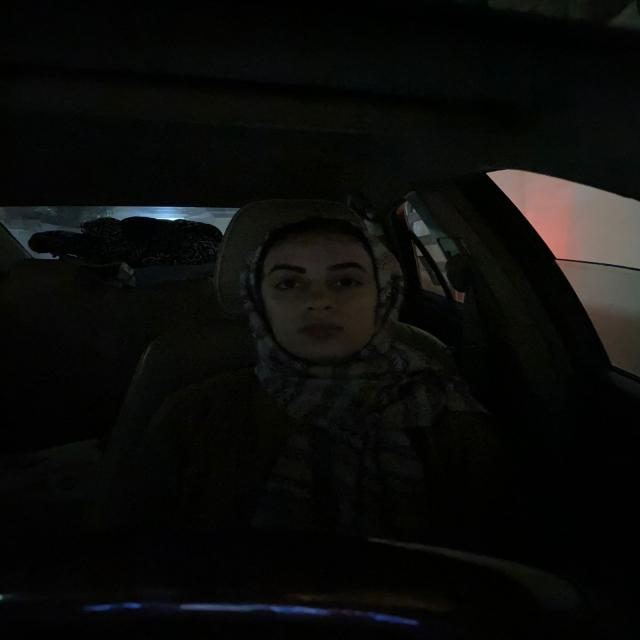person: (242, 213, 392, 372)
